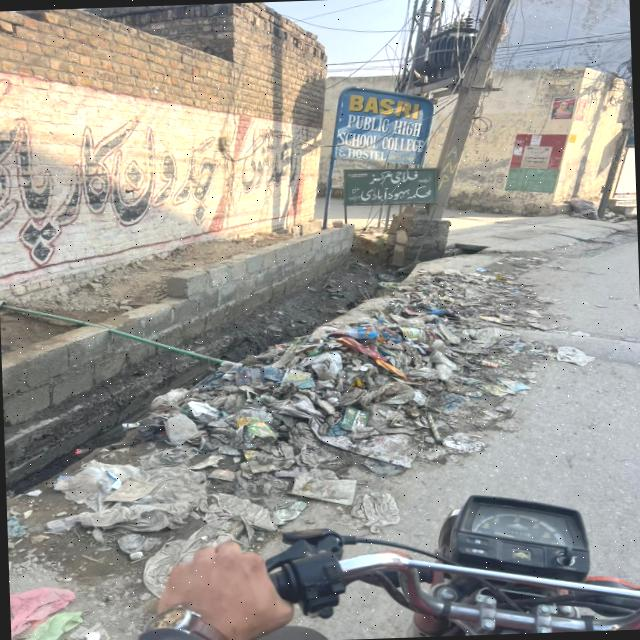garbage: (53, 261, 512, 546)
